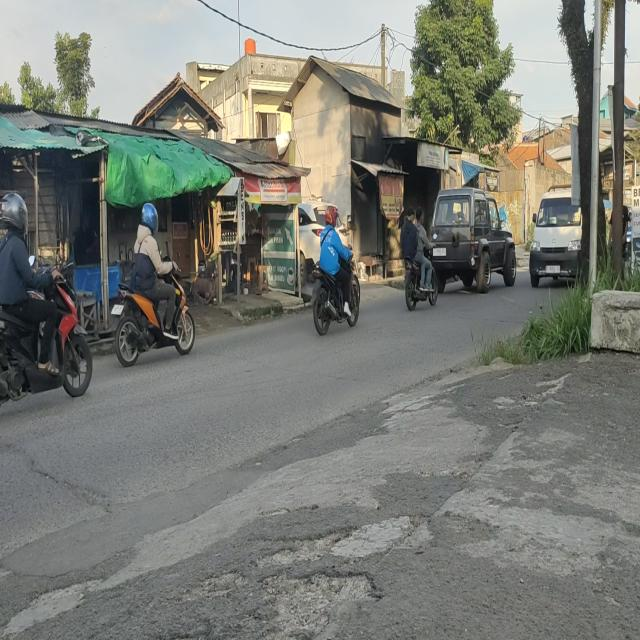helmet: (2, 192, 30, 231), (142, 201, 159, 231), (326, 205, 338, 228)
no-helmet: (406, 205, 415, 222), (416, 207, 424, 223)
